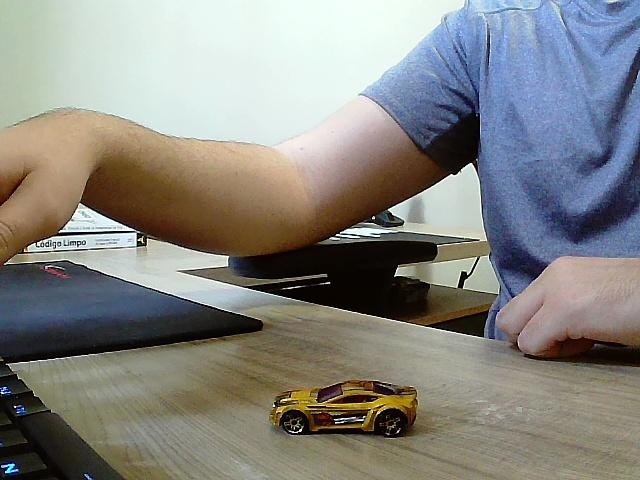Carro: (270, 381, 419, 439)
